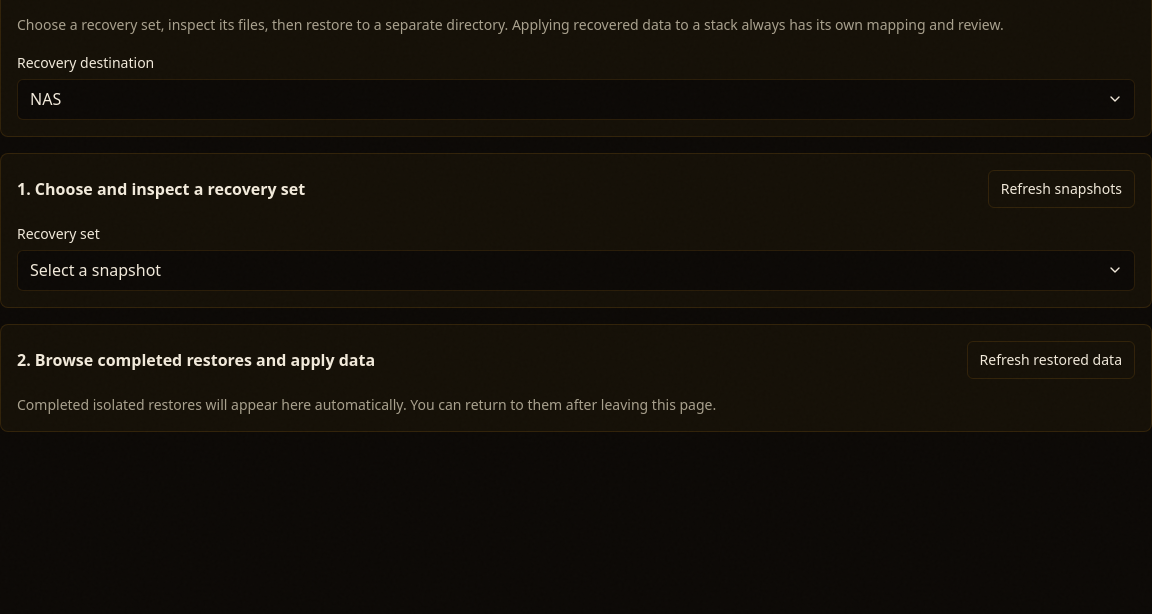
Scenario: Continuous recovery workspace › automatically selects a completed restore and downloads from its registered identity
Step 1. Select "10/1/2026, 12:00:00 AM UTC · snap · unknown · debian" in the dropdown labelled "Recovery set" → [576, 270], box [17,250,1135,291]
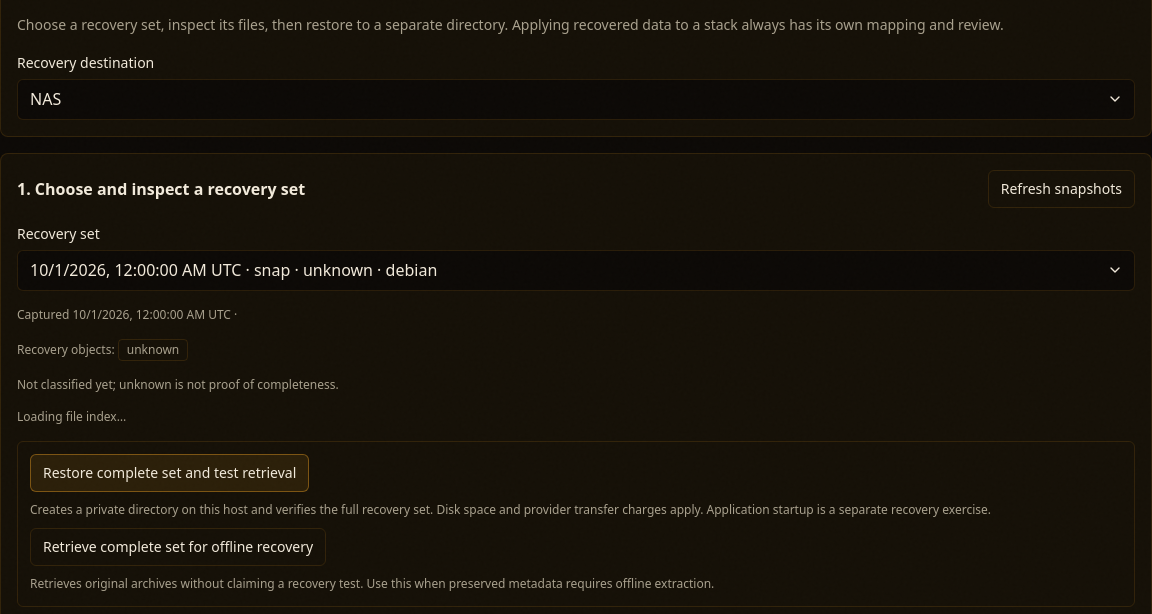
Step 2. Click the button "Restore complete set and test retrieval" → [170, 473], box [30,454,309,492]
(page scrolled)
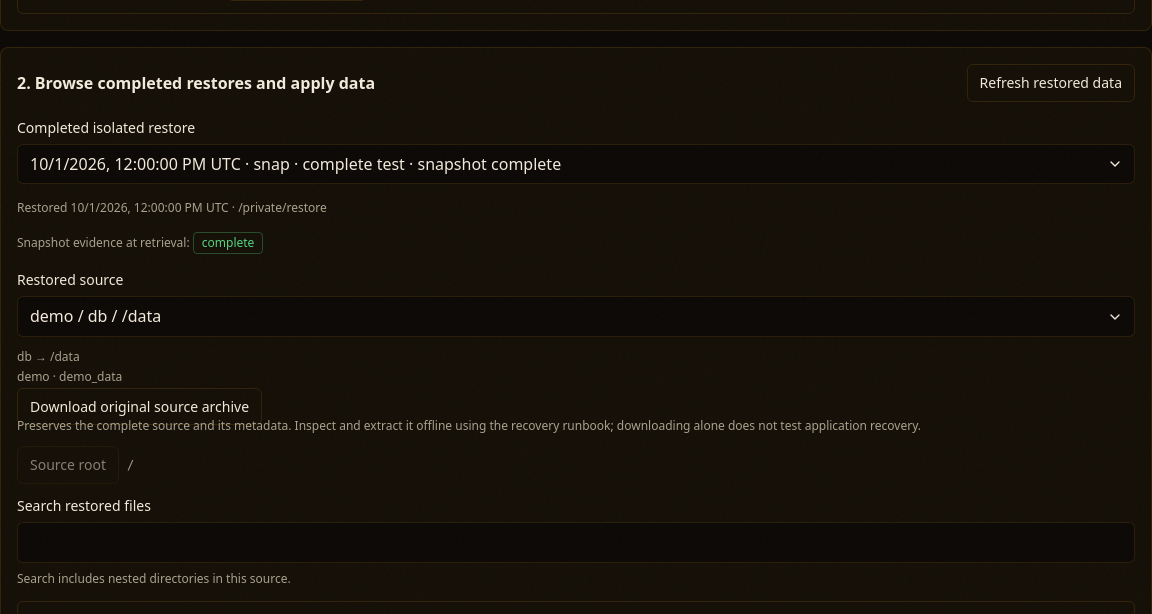
Result: the dropdown labelled "Completed isolated restore" shows "10/1/2026, 12:00:00 PM UTC · snap · complete test · snapshot complete" at [17,144,1135,184]
Step 3. Select "demo / db / /data" in the dropdown labelled "Restored source" → [576, 317], box [17,296,1135,337]
(page scrolled)
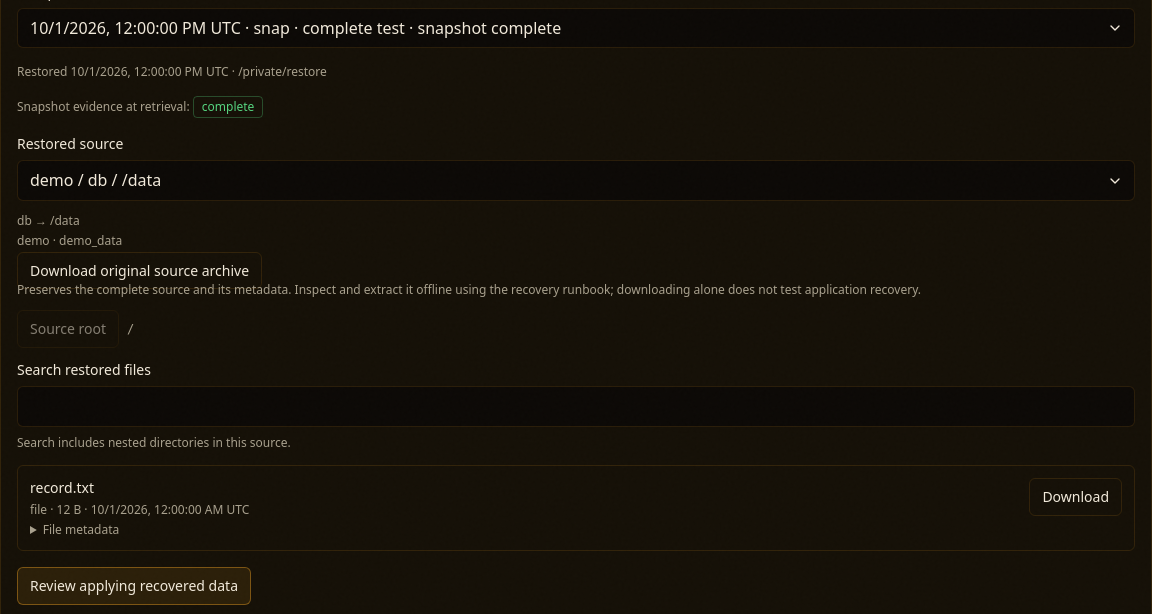
Step 4. Click the button "Review applying recovered data" → [134, 586], box [17,567,251,605]
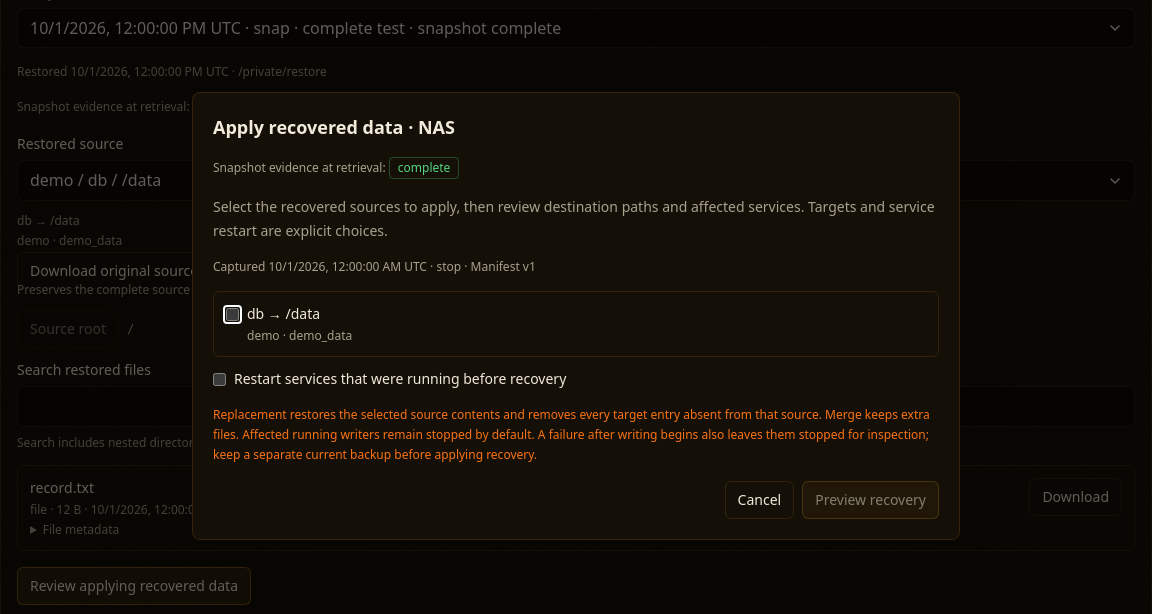
Result: the checkbox labelled "db → /data demo · demo_data" is not checked at [226,308,239,321]
